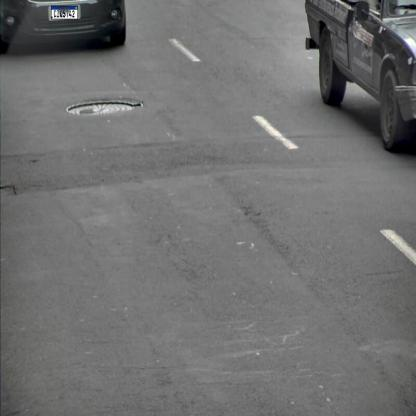PlacaM: (51, 6, 78, 20)
